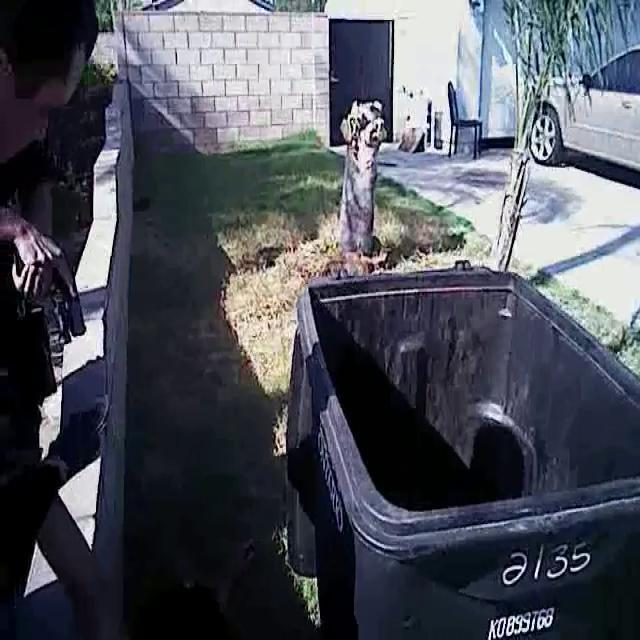gun: (7, 234, 105, 354)
